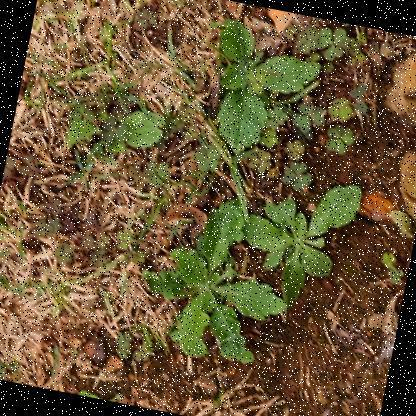Weeds: (124, 179, 306, 373), (224, 163, 364, 321), (199, 19, 326, 166), (61, 93, 169, 172)
